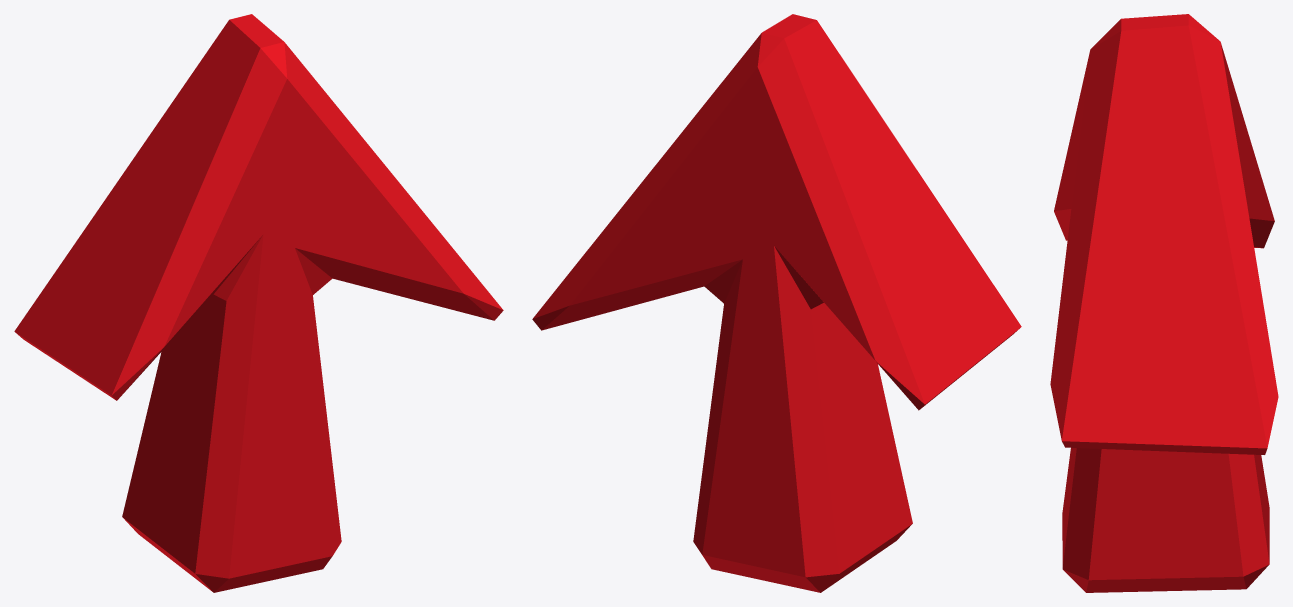
File: arrow.fbx
3 renders of one model, left to right at view 1: azimuth 30°, elevation 25°; view 2: azimuth 150°, elevation 25°; view 3: azimuth 270°, elevation 25°, orthographic. The views are drawn at different scales.
Parts seen in each view (by area): view 1: Cube; view 2: Cube; view 3: Cube.
Boxes of the visible parts, bbox=[...] form: Cube: bbox=[14, 14, 503, 592]; Cube: bbox=[532, 14, 1021, 592]; Cube: bbox=[1050, 14, 1278, 592].
Bounding box in the file's own units: 347 × 444 × 165.
